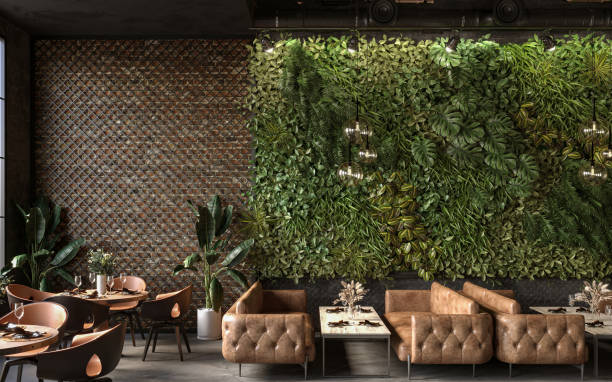dining table set: (4, 271, 194, 363), (0, 300, 128, 382)
flower vase: (88, 247, 116, 295), (584, 275, 612, 319), (339, 275, 366, 319)
large plant: (181, 196, 247, 343), (10, 194, 80, 293)
sofa: (461, 276, 590, 379), (382, 280, 493, 379), (220, 280, 318, 382)
table: (532, 300, 612, 377), (318, 302, 393, 382)
